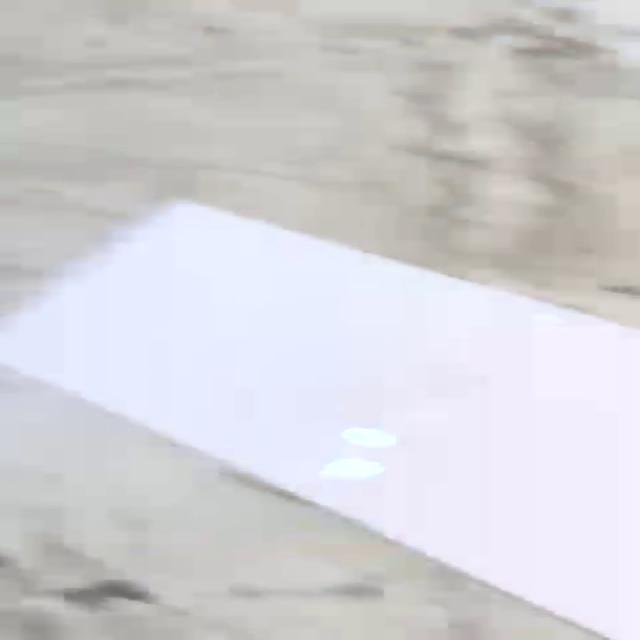road: (0, 200, 640, 640)
